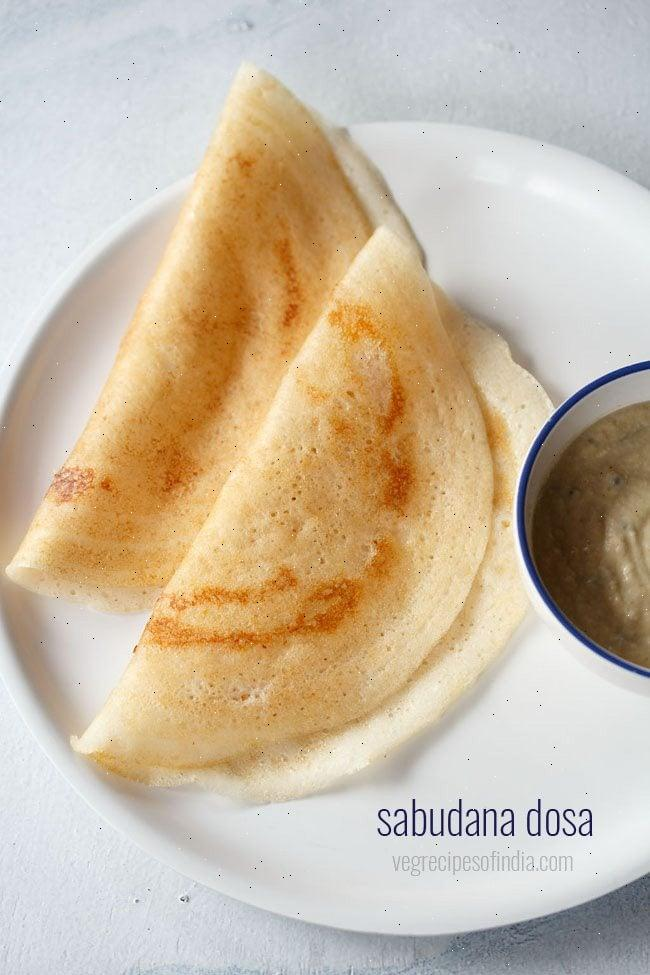dosa: (128, 61, 499, 761)
